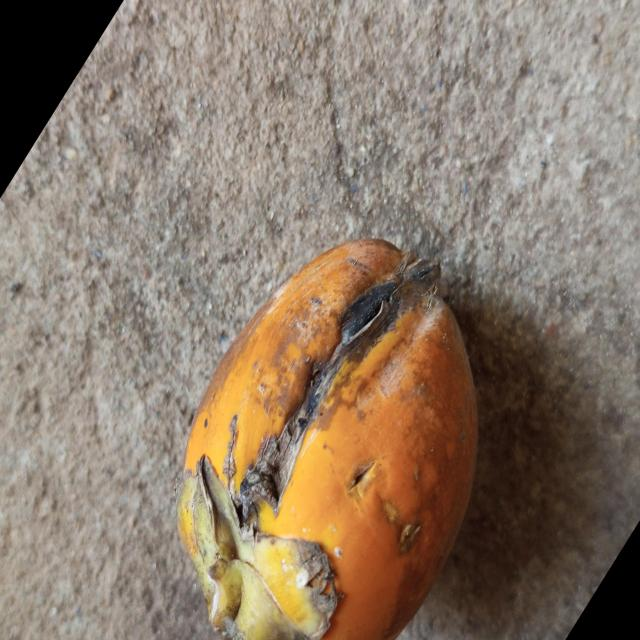damaged: (178, 239, 477, 640)
